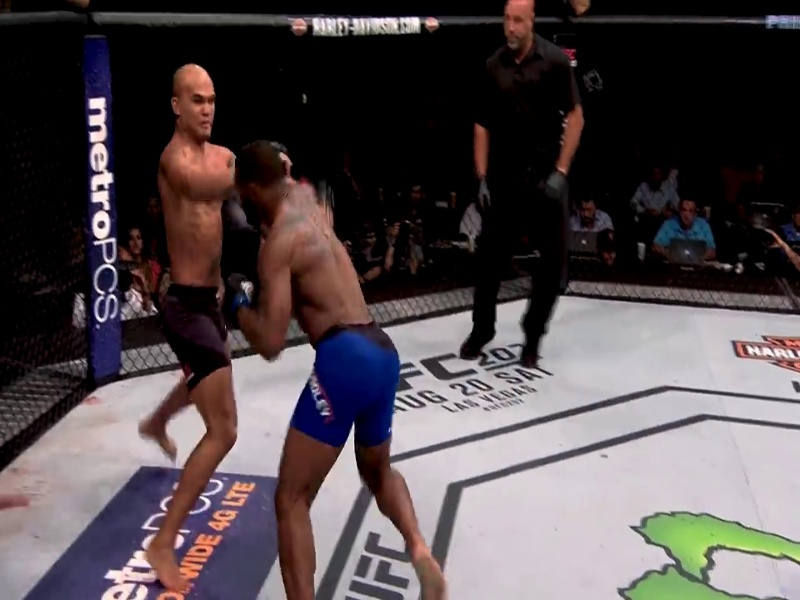fighter: (218, 138, 448, 600), (126, 60, 260, 600)
